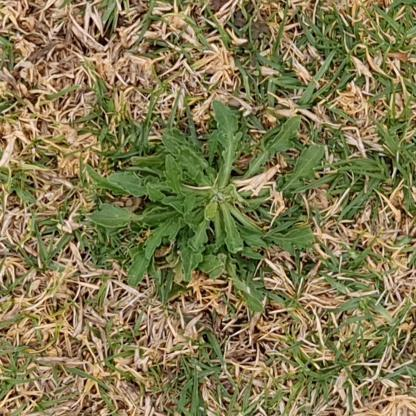Weeds: (74, 100, 326, 312)
